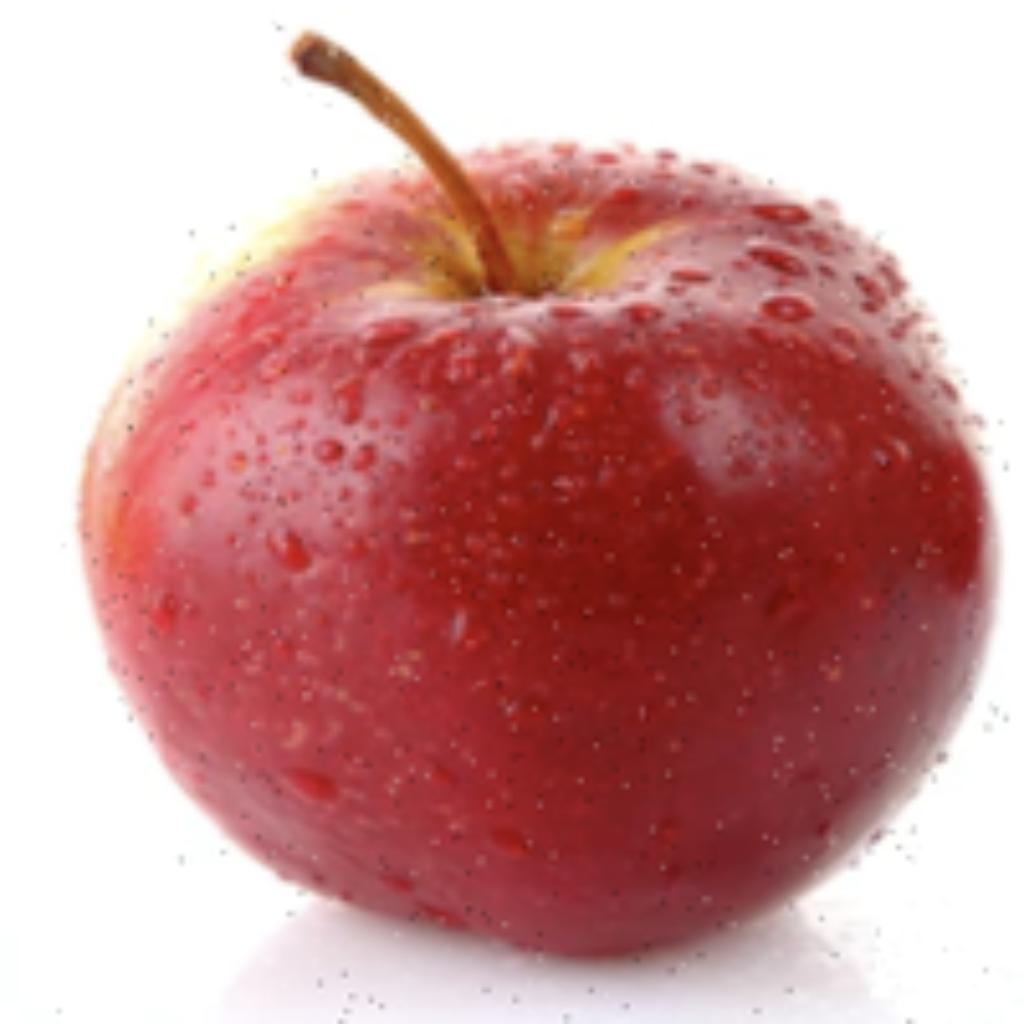apple: (56, 15, 1009, 1019)
